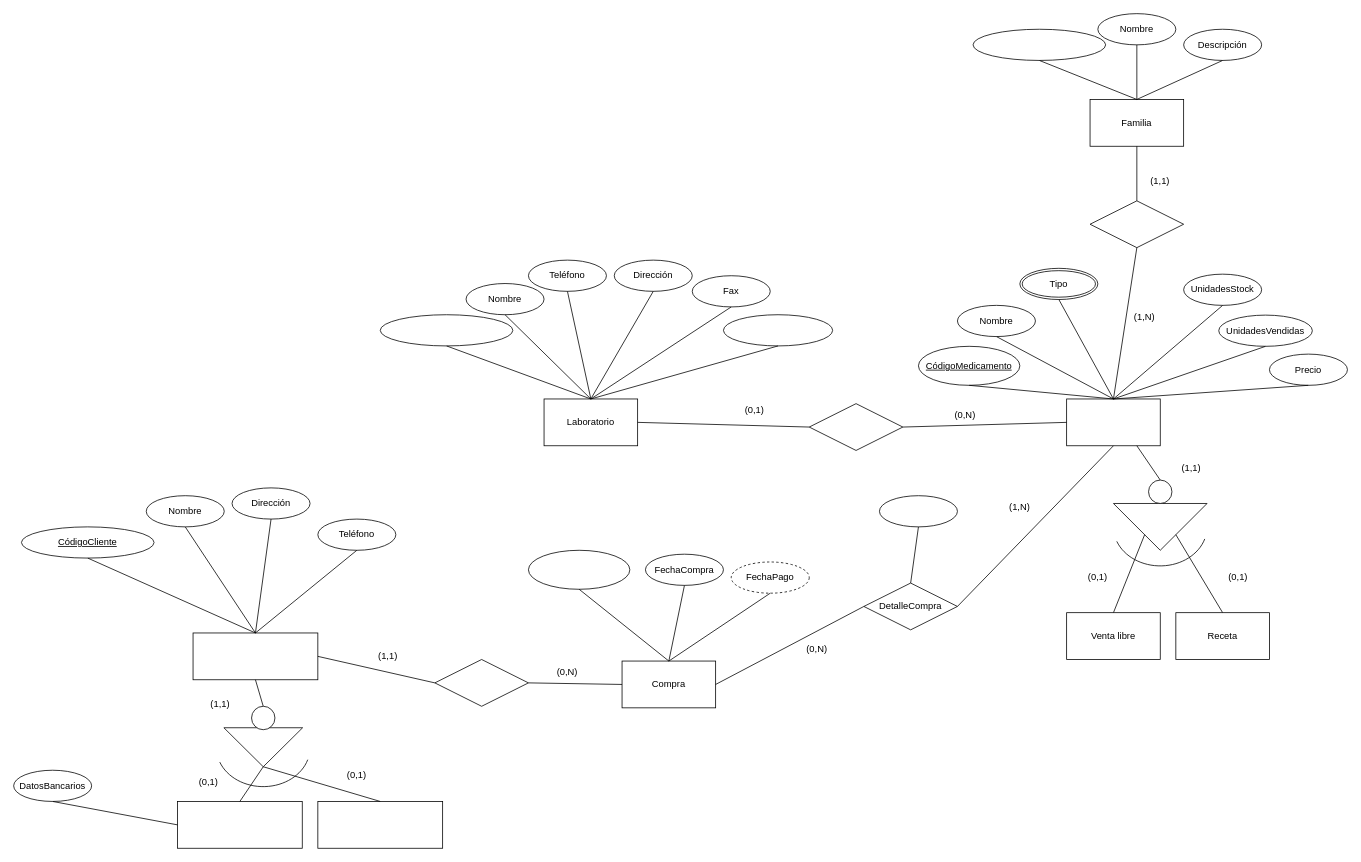
Image size: 1361x862. Some labels were removed from this diagram. Each missing label, with the box of its shape:
Cantidad: (879, 495, 957, 527)
Cliente: (192, 632, 318, 680)
ClienteContado: (317, 801, 443, 848)
ClienteCrédito: (177, 801, 302, 848)
CódigoFamilia: (972, 28, 1106, 60)
CódigoLaboratorio: (379, 314, 513, 346)
Fabrica: (808, 403, 903, 450)
IDCompra: (528, 550, 630, 589)
Medicamento: (1066, 398, 1160, 446)
PersonaContacto: (723, 314, 833, 346)
Pertenece: (1089, 200, 1184, 248)
Realiza: (434, 659, 528, 706)
